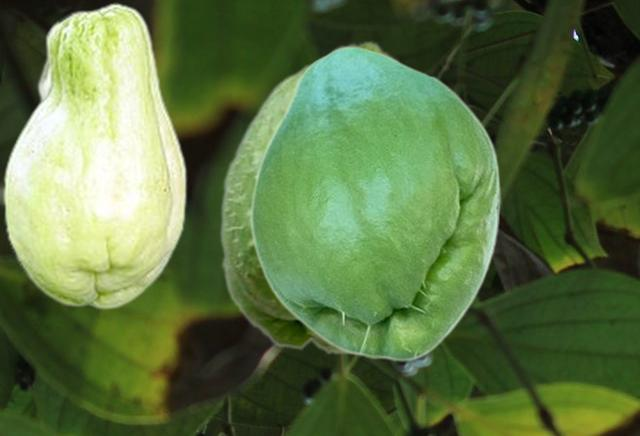sayote: (249, 46, 500, 362), (219, 39, 400, 355), (2, 2, 186, 309)
